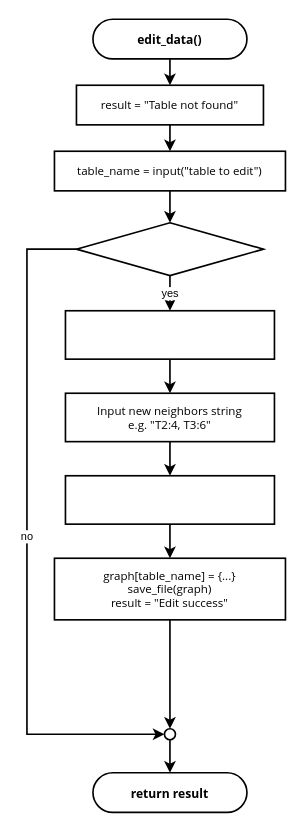
This 306x833 diagram has some shape labels left out. Here are the shapes that lost their labels. From the top down, the box of each, then its label:
(75, 221, 264, 276): table_name in graph
(64, 309, 275, 359): Input new x, y, sld (Use defaults if empty)
(64, 474, 275, 524): Parse new neighbors dict {n_name: dist_val}
